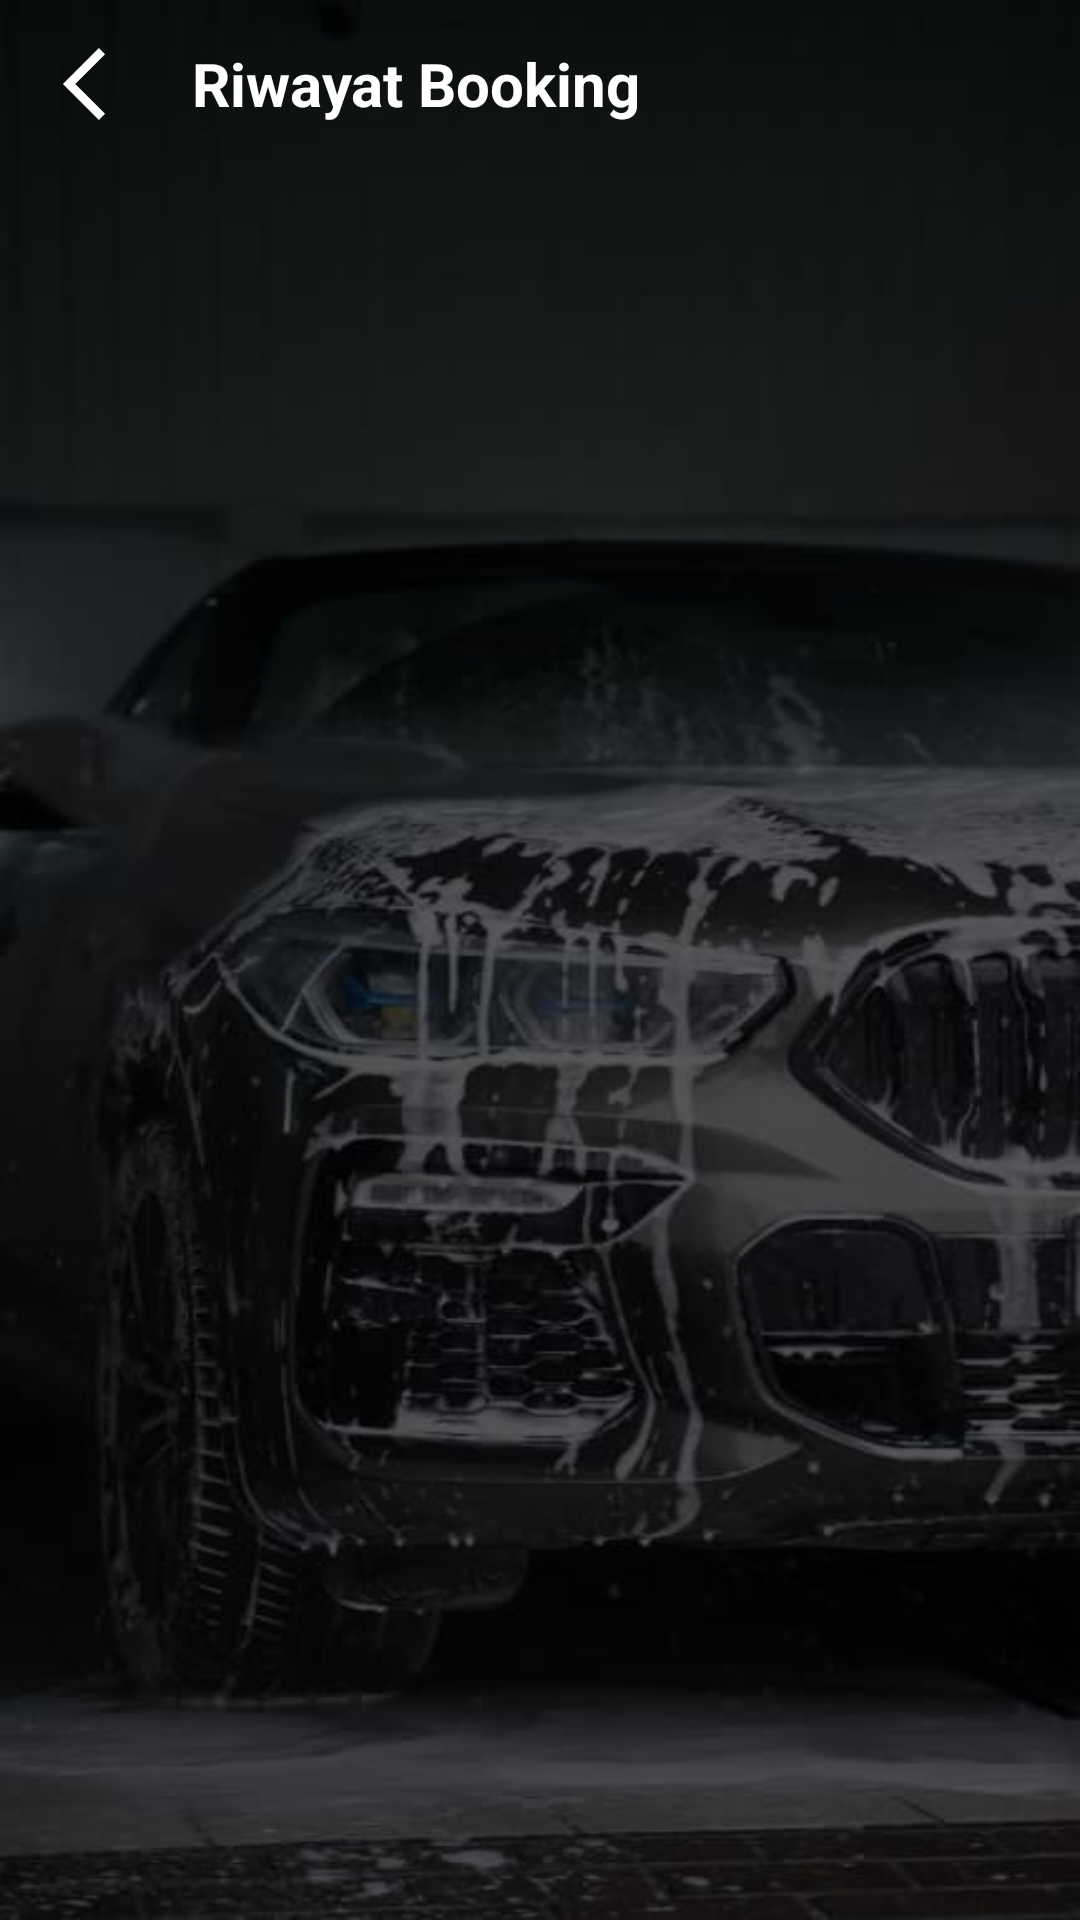

Named icons in this screenshot (1080 x 1920) and their bounding boxes, (x1, y1, x2, y2):
back arrow: (63, 48, 105, 120)
